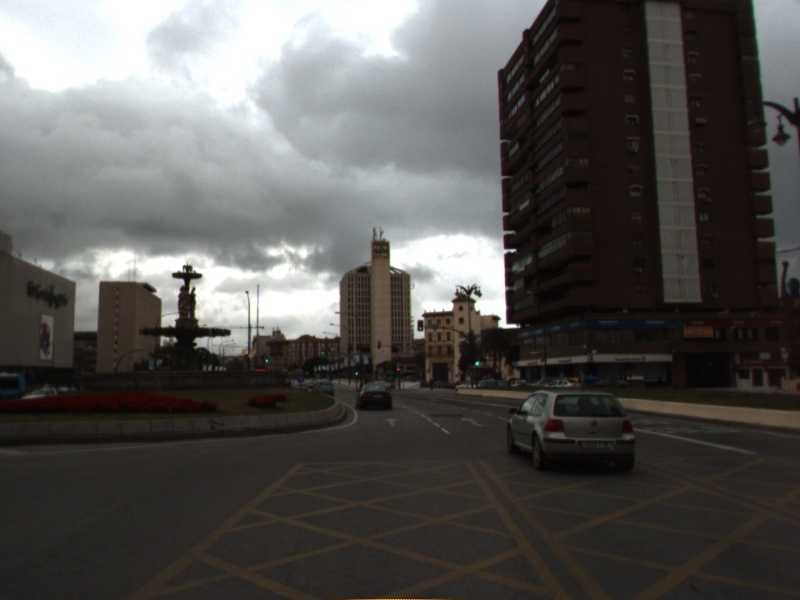STRAIGHT: (458, 414, 487, 430), (380, 414, 402, 429)
